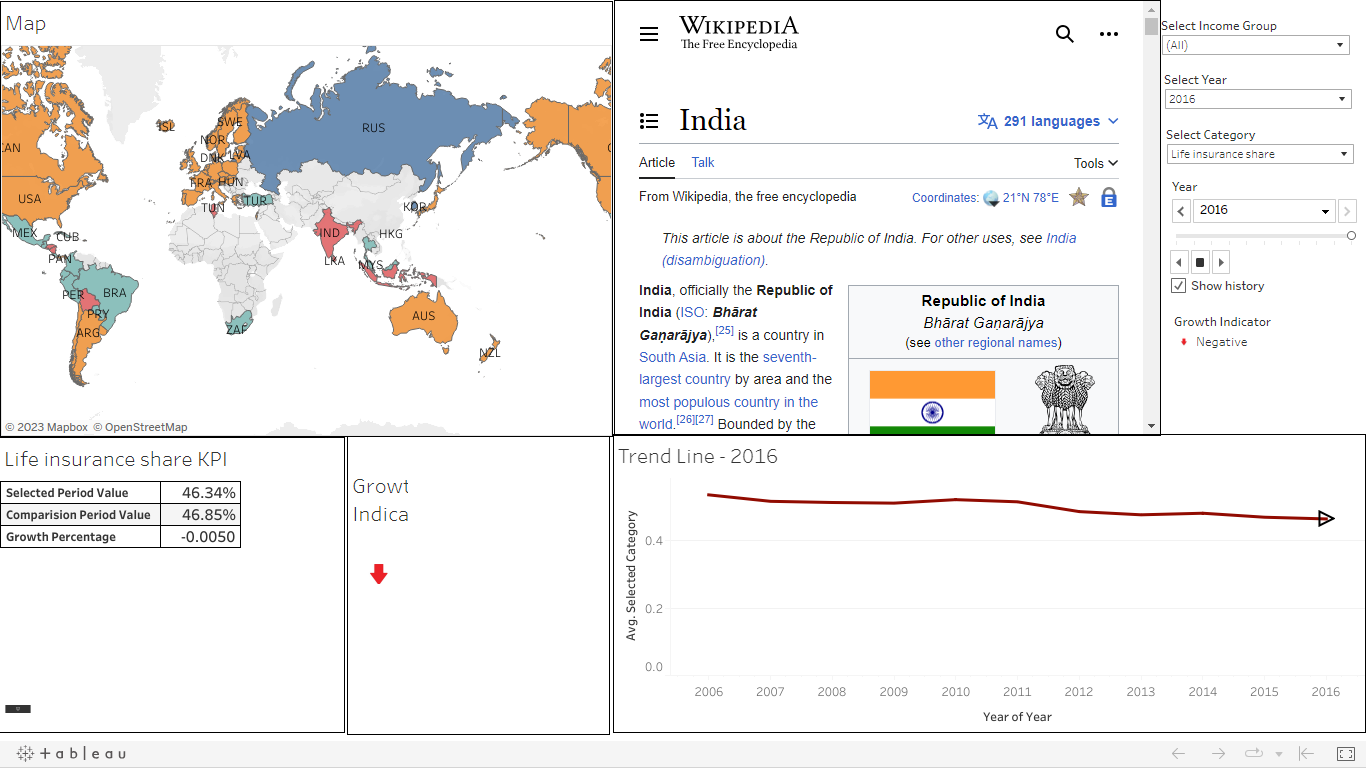

The page's visual inventory and layout, read from the dashboard file:
{"tool":"tableau","page":{"name":"Key Indicators Dashboard","canvas":[1000,1000],"units":"permille","ordinal":0},"visuals":[{"type":"web page","param":"https://en.wikipedia.org/wiki/India","box":[449.4,0,400.9,587.8]},{"type":"worksheet","title":"Map","mark":"Multipolygon","box":[0,1.7,448.5,587.8]},{"type":"filter","title":"Map","param":"[federated.0mrlazk0prtuz111od64k1werhcr].[none:income:nk]","box":[850.2,22,138.5,74.3]},{"type":"parameter","param":"[Parameters].[Parameter 2]","box":[852,94.6,138.5,74.3]},{"type":"parameter","param":"[Parameters].[Parameter 1]","box":[853.7,168.9,138.5,74.3]},{"type":"currpage","title":"Trend Line","box":[856.3,239.9,138.5,172.3]},{"type":"legend","title":"Growth Indicator","param":"[federated.0dctfjc182jgps123ejqd0j1ofuo].[usr:Calculation_469500292797386756:nk]","box":[859.7,422.3,121.2,64.2]},{"type":"worksheet","title":"Trend Line","mark":"Shape","rows":["Calculation_469500292790525952"],"cols":["Year"],"box":[448.5,586.1,551.5,403.7]},{"type":"worksheet","title":"Growth Indicator","mark":"Shape","box":[253.7,587.8,193.1,403.7]},{"type":"dashboard-object","box":[2.6,930.7,20.8,50.7]}]}

Visuals, with their boxes on the dashboard's canvas, which has no fixed pixel size, in thousandths of its width and height (x1, y1, x2, y2). These are canvas units, not pixel positions in the 1366x768 screenshot, which may show the page scaled, cropped or inside an application window:
web page: <box>449,0,850,588</box>
"Map" worksheet (Multipolygon marks): <box>0,2,448,590</box>
"Map" filter: <box>850,22,989,96</box>
parameter: <box>852,95,990,169</box>
parameter: <box>854,169,992,243</box>
"Trend Line" currpage: <box>856,240,995,412</box>
"Growth Indicator" legend: <box>860,422,981,486</box>
"Trend Line" worksheet (Shape marks): <box>448,586,1000,990</box>
"Growth Indicator" worksheet (Shape marks): <box>254,588,447,992</box>
dashboard-object: <box>3,931,23,981</box>
